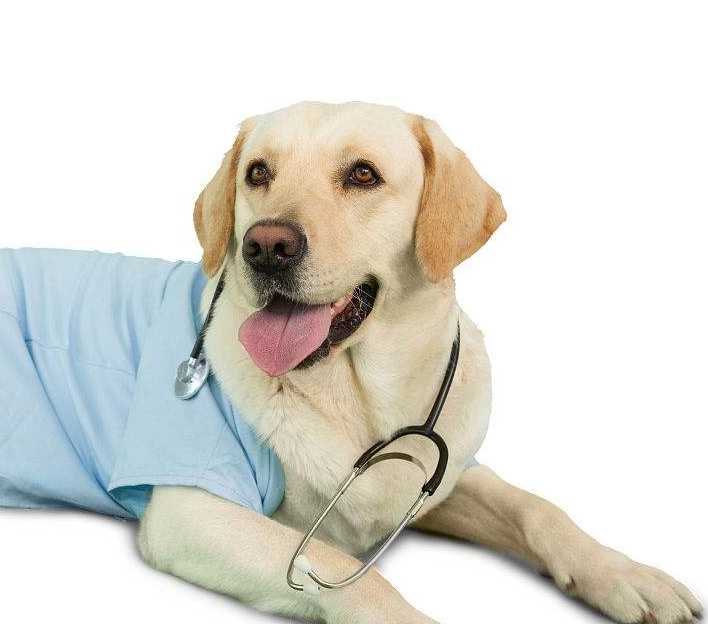nose: (234, 212, 315, 282)
